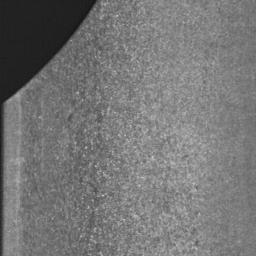Crescent gap: (0, 0, 97, 105)
